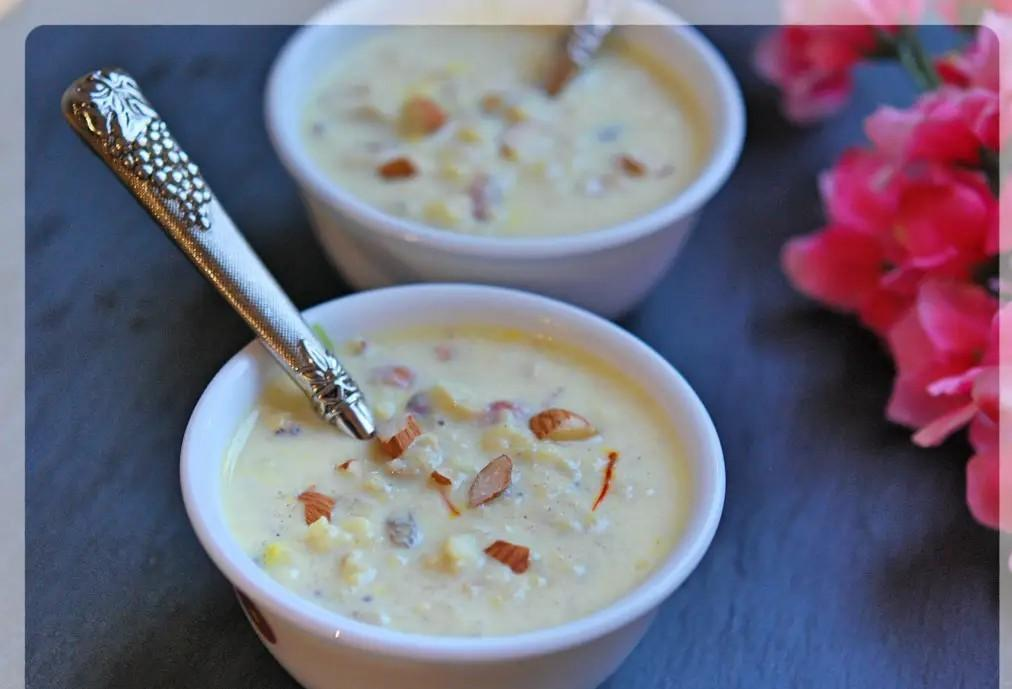Kheer: (220, 322, 686, 638), (304, 0, 710, 236)
